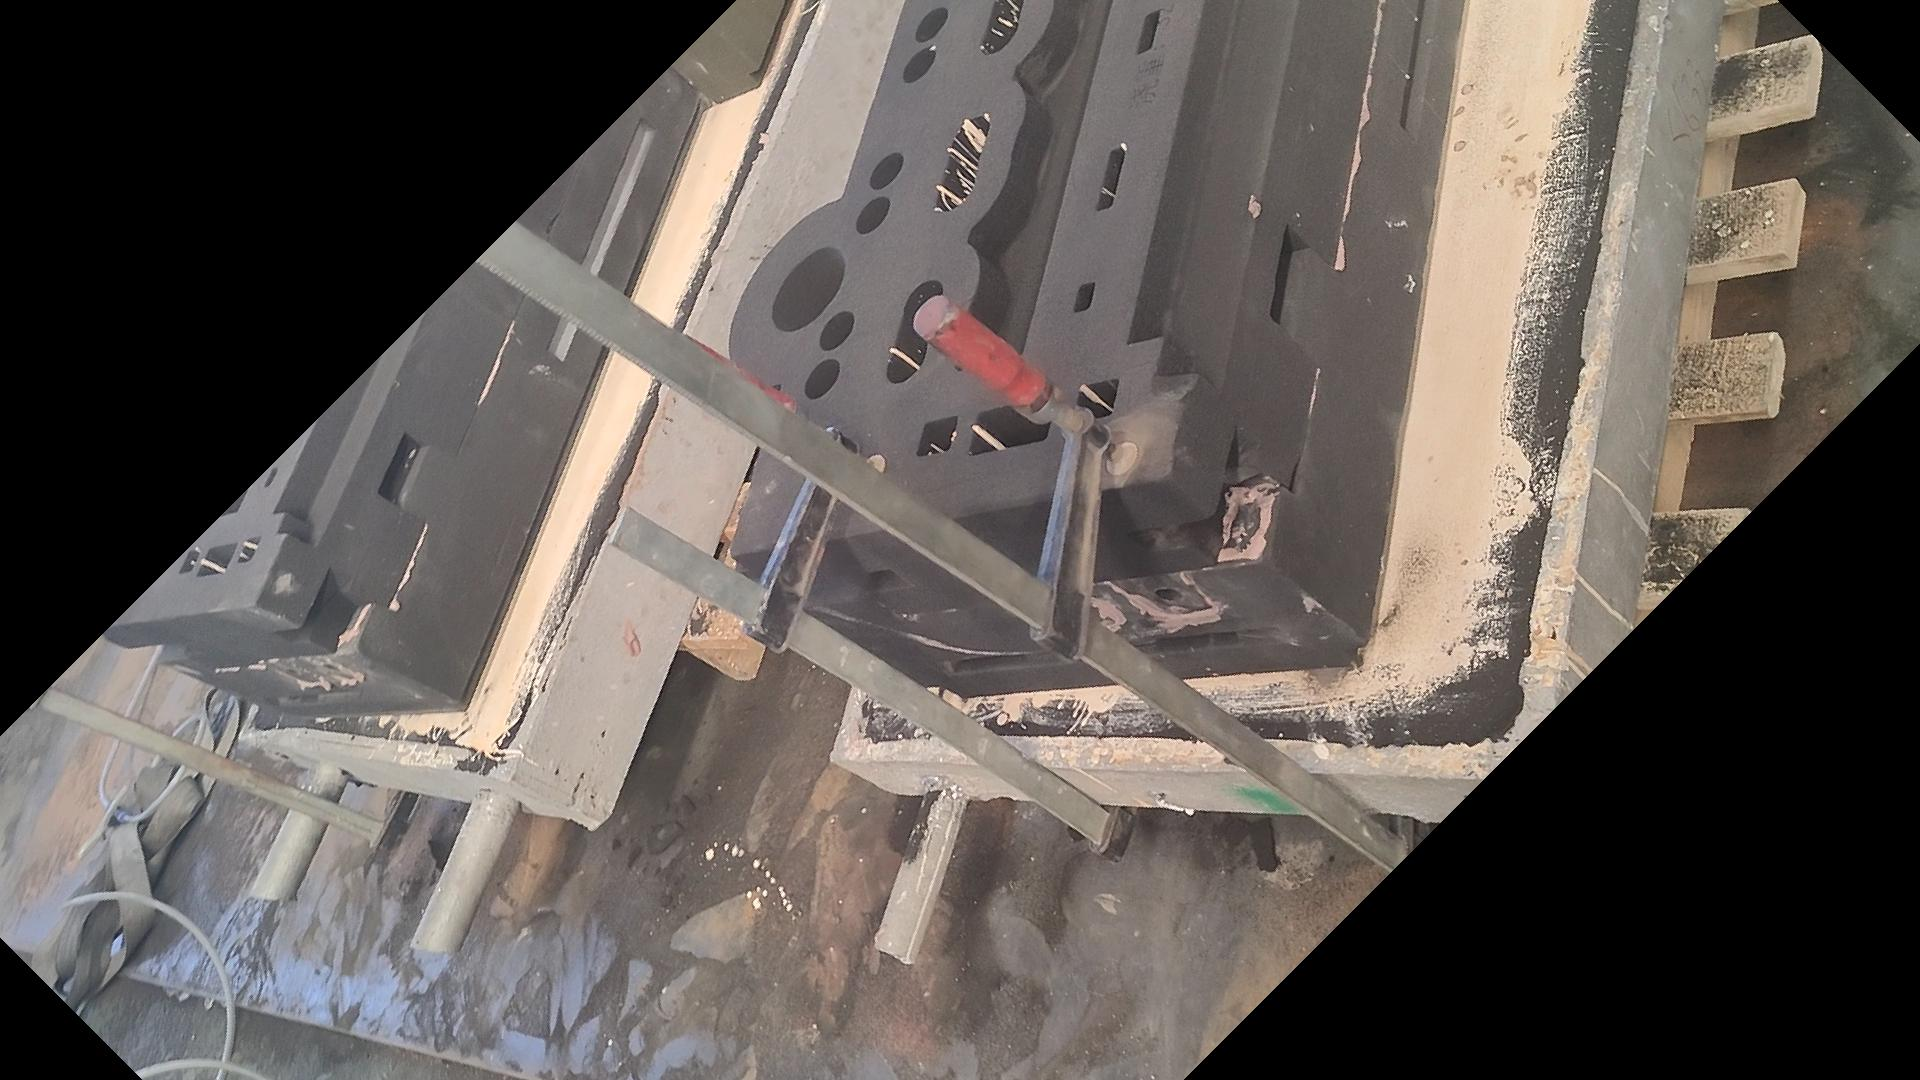pouring hole: (773, 247, 845, 331)
